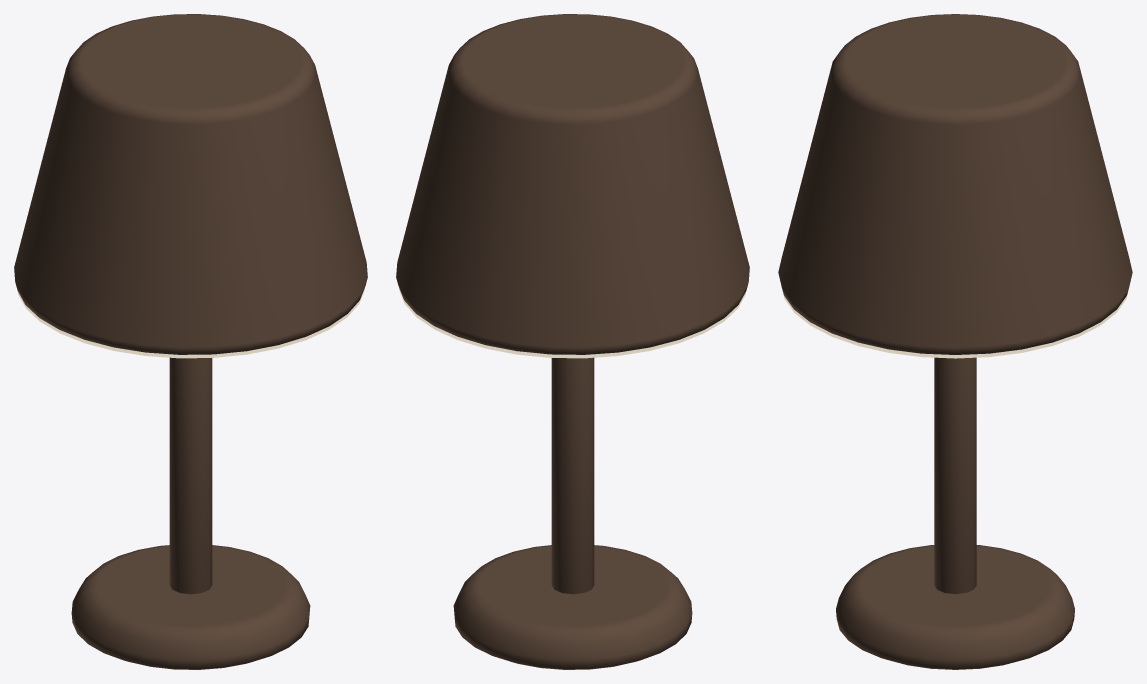
Rendered from lamp.glb.
The picture shows the model from 3 angles, left to right: view 1: azimuth 30°, elevation 25°; view 2: azimuth 150°, elevation 25°; view 3: azimuth 270°, elevation 25°; orthographic projection.
Visible parts, largest first — view 1: lamp; view 2: lamp; view 3: lamp.
Part boxes in pixels (box(x1,y1,x2,y2)): lamp: box(14, 14, 367, 669); lamp: box(396, 14, 749, 669); lamp: box(778, 14, 1132, 669).
Bounding box in the file's own units: 0.2562 × 0.4488 × 0.2562.
